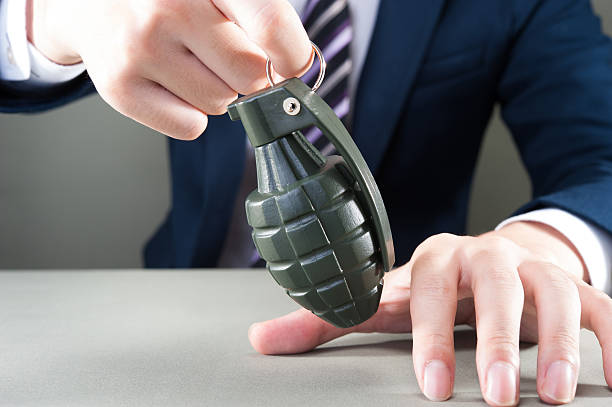e1: (231, 45, 396, 335)
